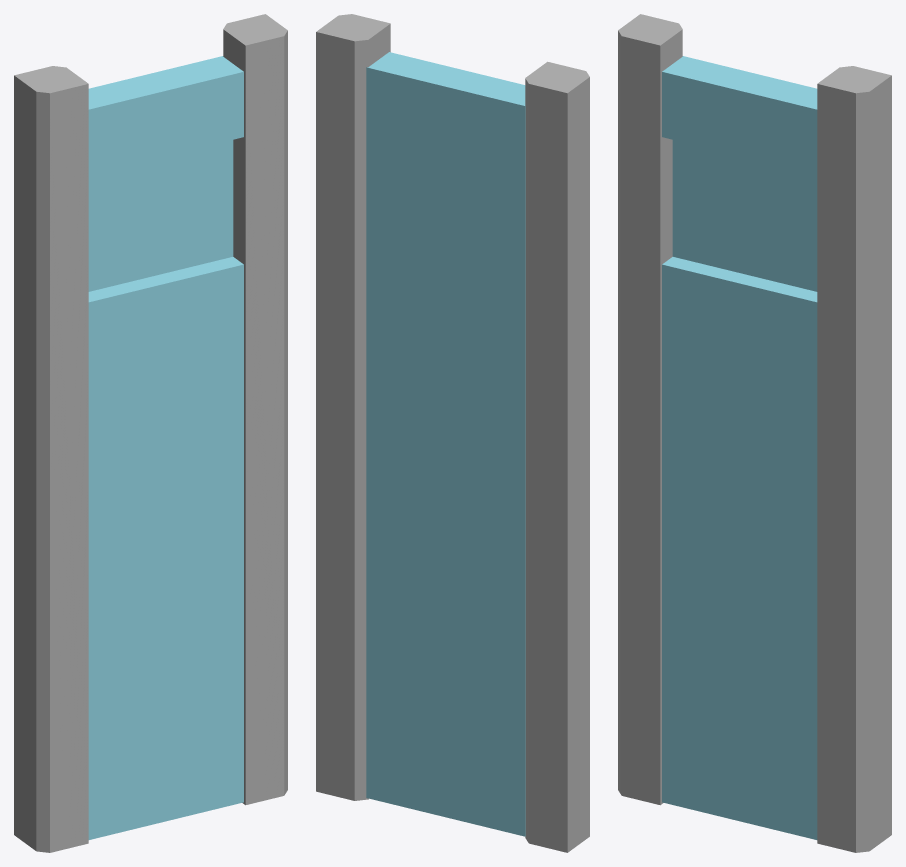
File: MurCote3.fbx
3 views of the same model, side by side, from view 1: azimuth 30°, elevation 25°; view 2: azimuth 150°, elevation 25°; view 3: azimuth 330°, elevation 25° (orthographic).
Visible parts, largest first — view 1: Cube.040, Cube.041, Cube.034; view 2: Cube.040, Cube.041, Cube.034; view 3: Cube.040, Cube.034, Cube.041.
Boxes of the visible parts, x1=… form: Cube.040: x1=88, y1=56, x2=243, y2=839; Cube.041: x1=14, y1=66, x2=88, y2=852; Cube.034: x1=223, y1=14, x2=287, y2=805; Cube.040: x1=366, y1=52, x2=525, y2=836; Cube.041: x1=525, y1=61, x2=589, y2=852; Cube.034: x1=316, y1=14, x2=390, y2=800; Cube.040: x1=662, y1=56, x2=817, y2=839; Cube.034: x1=817, y1=66, x2=891, y2=852; Cube.041: x1=618, y1=14, x2=682, y2=805.
Size of the model in its own units: 454 by 1309 by 85.46.
